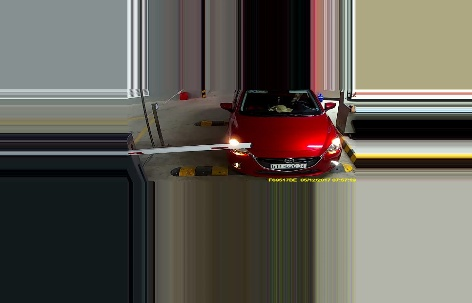plate: (267, 160, 306, 172)
